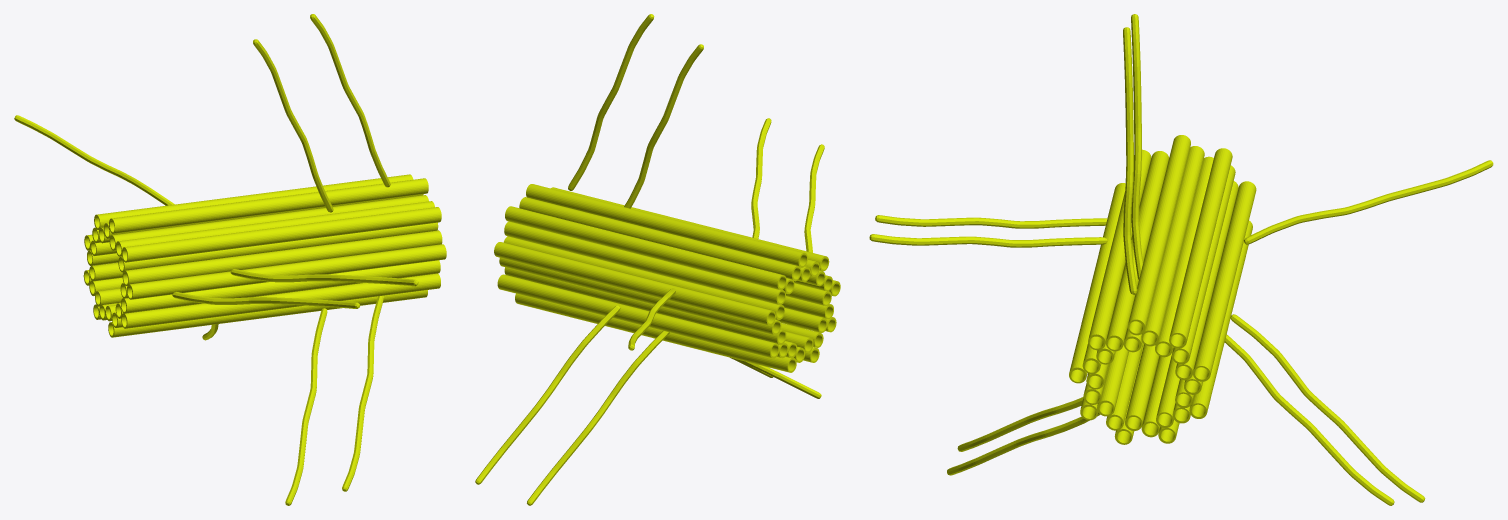
The model's file is centriole.fbx.
3 renders of one model, left to right at view 1: azimuth 30°, elevation 25°; view 2: azimuth 150°, elevation 25°; view 3: azimuth 270°, elevation 25°, orthographic. The views are drawn at different scales.
Parts seen in each view (by area): view 1: centriole1; view 2: centriole1; view 3: centriole1.
Part boxes in pixels (box(x1,y1,x2,y2)): centriole1: box(14, 14, 446, 505); centriole1: box(475, 14, 840, 505); centriole1: box(869, 14, 1493, 505).
Bounding box in the file's own units: 1354 × 1748 × 2066.
